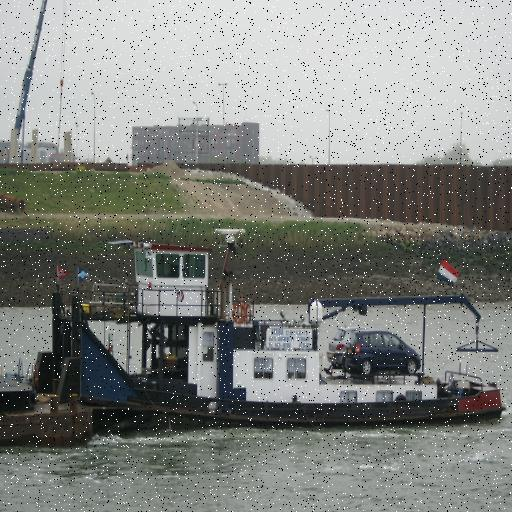tugboat: (26, 226, 511, 446)
